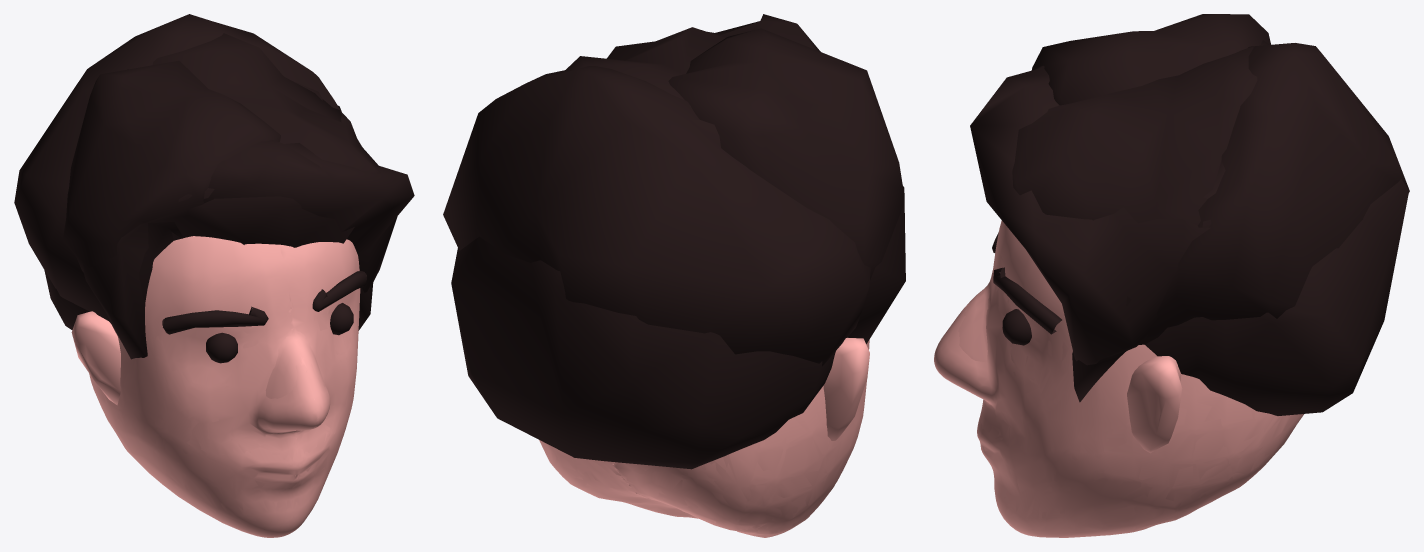
The model's file is Head3.glb.
3 renders of one model, left to right at view 1: azimuth 30°, elevation 25°; view 2: azimuth 150°, elevation 25°; view 3: azimuth 270°, elevation 25°, orthographic. The views are drawn at different scales.
Visible parts, largest first — view 1: Sphere.004, Head, Ears, BézierCurve, Left; view 2: Sphere.004, Head, Ears; view 3: Sphere.004, Head, Ears, BézierCurve, Left.
Boxes of the visible parts, x1=… form: Sphere.004: x1=14, y1=14, x2=414, y2=359; Head: x1=89, y1=236, x2=360, y2=537; Ears: x1=71, y1=311, x2=120, y2=405; BézierCurve: x1=162, y1=271, x2=366, y2=334; Left: x1=206, y1=303, x2=353, y2=363; Sphere.004: x1=443, y1=14, x2=905, y2=469; Head: x1=539, y1=340, x2=869, y2=537; Ears: x1=823, y1=337, x2=869, y2=440; Sphere.004: x1=970, y1=14, x2=1409, y2=415; Head: x1=934, y1=220, x2=1303, y2=537; Ears: x1=1127, y1=356, x2=1182, y2=453; BézierCurve: x1=992, y1=232, x2=1061, y2=334; Left: x1=1002, y1=309, x2=1031, y2=345.
Size of the model in its own units: 3.67 by 4.83 by 4.22.
